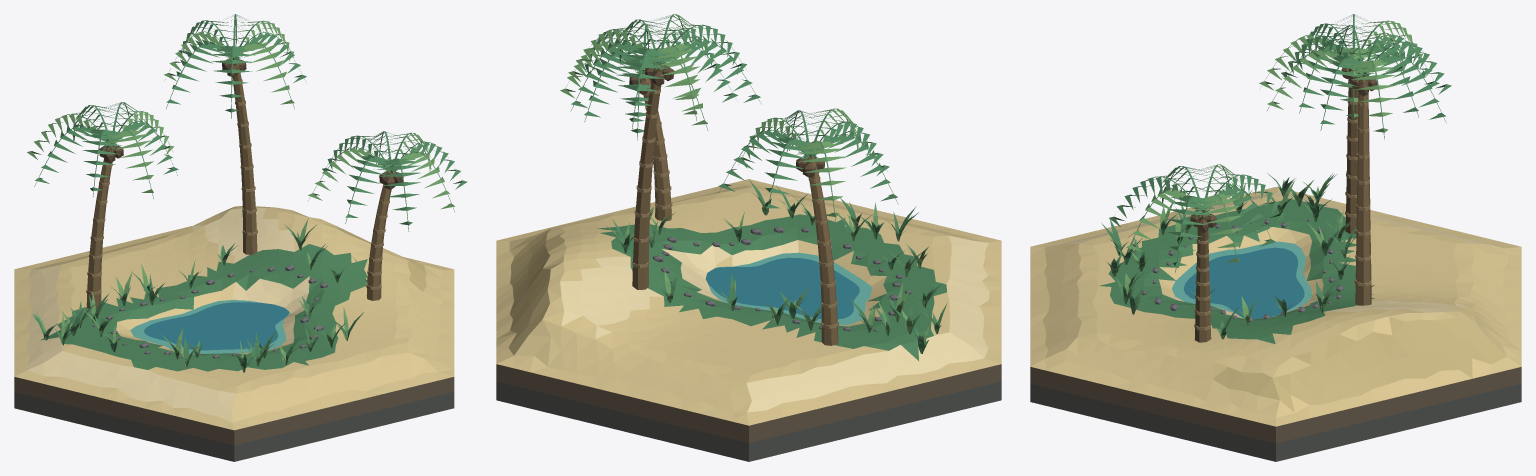
File: desert-oasis.glb
The picture shows the model from 3 angles, left to right: view 1: azimuth 30°, elevation 25°; view 2: azimuth 150°, elevation 25°; view 3: azimuth 270°, elevation 25°; orthographic projection. The views are drawn at different scales.
Parts seen in each view (by area): view 1: LandformRoot_mesh, SpringWater_mesh, OasisFrond.021_mesh, OasisFrond.013_mesh, OasisFrond.006_mesh, OasisFrond.005_mesh, OasisFrond.014_mesh, OasisFrond.012_mesh, OasisFrond.020_mesh, OasisFrond.004_mesh, OasisFrond.022_mesh, OasisFrond.019_mesh (+8 smaller); view 2: LandformRoot_mesh, SpringWater_mesh, OasisFrond.003_mesh, OasisFrond.010_mesh, OasisFrond.002_mesh, OasisFrond.011_mesh, OasisFrond.004_mesh, OasisFrond.009_mesh, OasisFrond.012_mesh, OasisFrond.001_mesh, OasisFrond.008_mesh, OasisFrond.013_mesh (+4 smaller); view 3: LandformRoot_mesh, SpringWater_mesh, OasisFrond.023_mesh, OasisFrond.008_mesh, OasisFrond.016_mesh, OasisFrond.015_mesh, OasisFrond.009_mesh, OasisFrond.014_mesh, OasisFrond.022_mesh, OasisFrond.010_mesh, OasisFrond.021_mesh, OasisFrond.018_mesh (+6 smaller).
Boxes of the visible parts, bbox=[...] form: LandformRoot_mesh: bbox=[14, 58, 454, 461]; SpringWater_mesh: bbox=[130, 300, 290, 354]; OasisFrond.021_mesh: bbox=[377, 158, 420, 231]; OasisFrond.013_mesh: bbox=[211, 46, 255, 118]; OasisFrond.006_mesh: bbox=[102, 128, 153, 198]; OasisFrond.005_mesh: bbox=[82, 129, 122, 196]; OasisFrond.014_mesh: bbox=[227, 41, 294, 109]; OasisFrond.012_mesh: bbox=[166, 39, 240, 108]; OasisFrond.020_mesh: bbox=[345, 155, 399, 223]; OasisFrond.004_mesh: bbox=[34, 124, 118, 186]; OasisFrond.022_mesh: bbox=[383, 150, 455, 211]; OasisFrond.019_mesh: bbox=[308, 145, 395, 200]; LandformRoot_mesh: bbox=[496, 65, 1001, 461]; SpringWater_mesh: bbox=[705, 252, 871, 324]; OasisFrond.003_mesh: bbox=[794, 141, 846, 223]; OasisFrond.010_mesh: bbox=[622, 48, 672, 129]; OasisFrond.002_mesh: bbox=[764, 137, 821, 214]; OasisFrond.011_mesh: bbox=[648, 44, 699, 120]; OasisFrond.004_mesh: bbox=[801, 131, 898, 204]; OasisFrond.009_mesh: bbox=[570, 38, 667, 111]; OasisFrond.012_mesh: bbox=[651, 35, 761, 104]; OasisFrond.001_mesh: bbox=[718, 125, 815, 193]; OasisFrond.008_mesh: bbox=[568, 27, 667, 81]; OasisFrond.013_mesh: bbox=[655, 24, 746, 74]; LandformRoot_mesh: bbox=[1030, 67, 1521, 461]; SpringWater_mesh: bbox=[1172, 241, 1312, 319]; OasisFrond.023_mesh: bbox=[1166, 196, 1217, 272]; OasisFrond.008_mesh: bbox=[1348, 60, 1396, 139]; OasisFrond.016_mesh: bbox=[1192, 194, 1242, 268]; OasisFrond.015_mesh: bbox=[1320, 55, 1373, 130]; OasisFrond.009_mesh: bbox=[1355, 51, 1446, 123]; OasisFrond.014_mesh: bbox=[1267, 47, 1371, 110]; OasisFrond.022_mesh: bbox=[1126, 186, 1211, 254]; OasisFrond.010_mesh: bbox=[1355, 39, 1451, 94]; OasisFrond.021_mesh: bbox=[1109, 175, 1211, 226]; OasisFrond.018_mesh: bbox=[1194, 174, 1285, 223].
Bounding box in the file's own units: 3.5 × 2.16 × 3.03.
